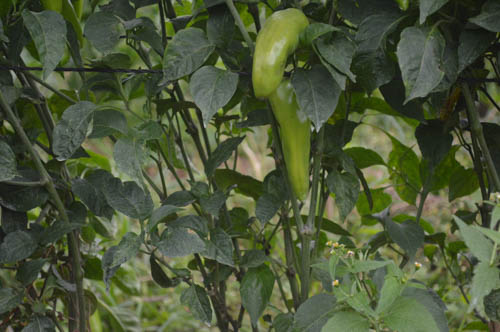ChiliPepper: (249, 10, 309, 95), (273, 82, 311, 198)
